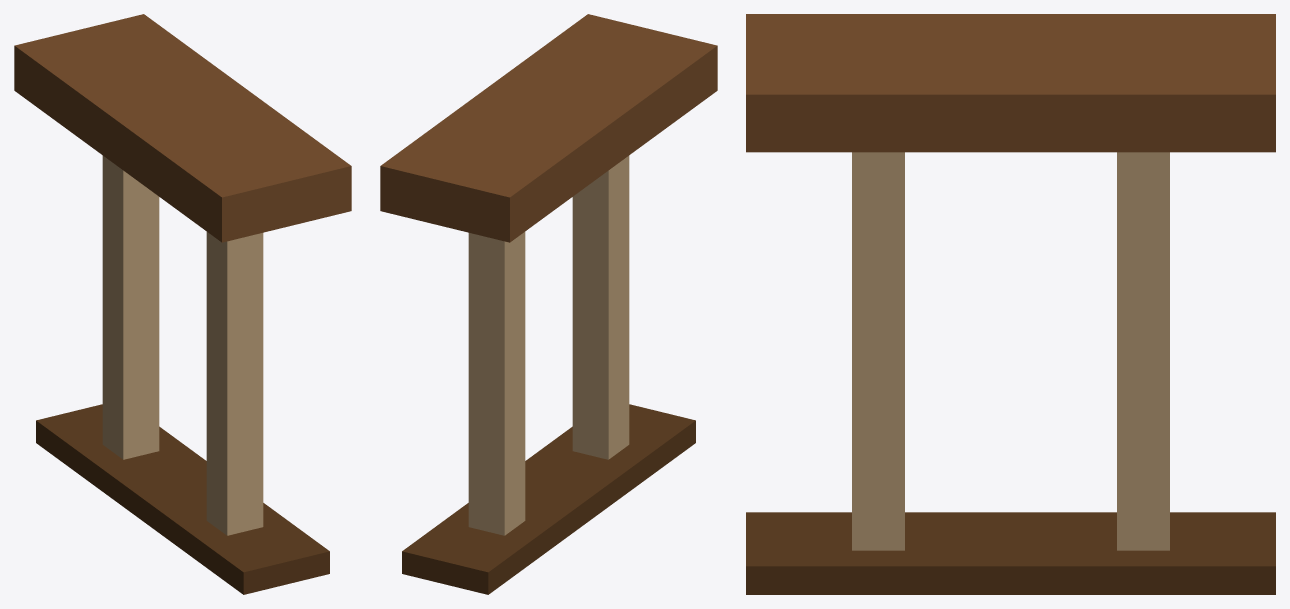
The model's file is ncb-stair-rail-flat.glb.
3 views of the same model, side by side, from view 1: azimuth 30°, elevation 25°; view 2: azimuth 150°, elevation 25°; view 3: azimuth 270°, elevation 25° (orthographic). The views are drawn at different scales.
Visible parts, largest first — view 1: box-prop; view 2: box-prop; view 3: box-prop.
Boxes of the visible parts, x1,y1,x2,y2 form: box-prop: (14,14,351,594); box-prop: (380,14,717,594); box-prop: (746,14,1275,594).
Bounding box in the file's own units: 0.36 × 1.07 × 1.
